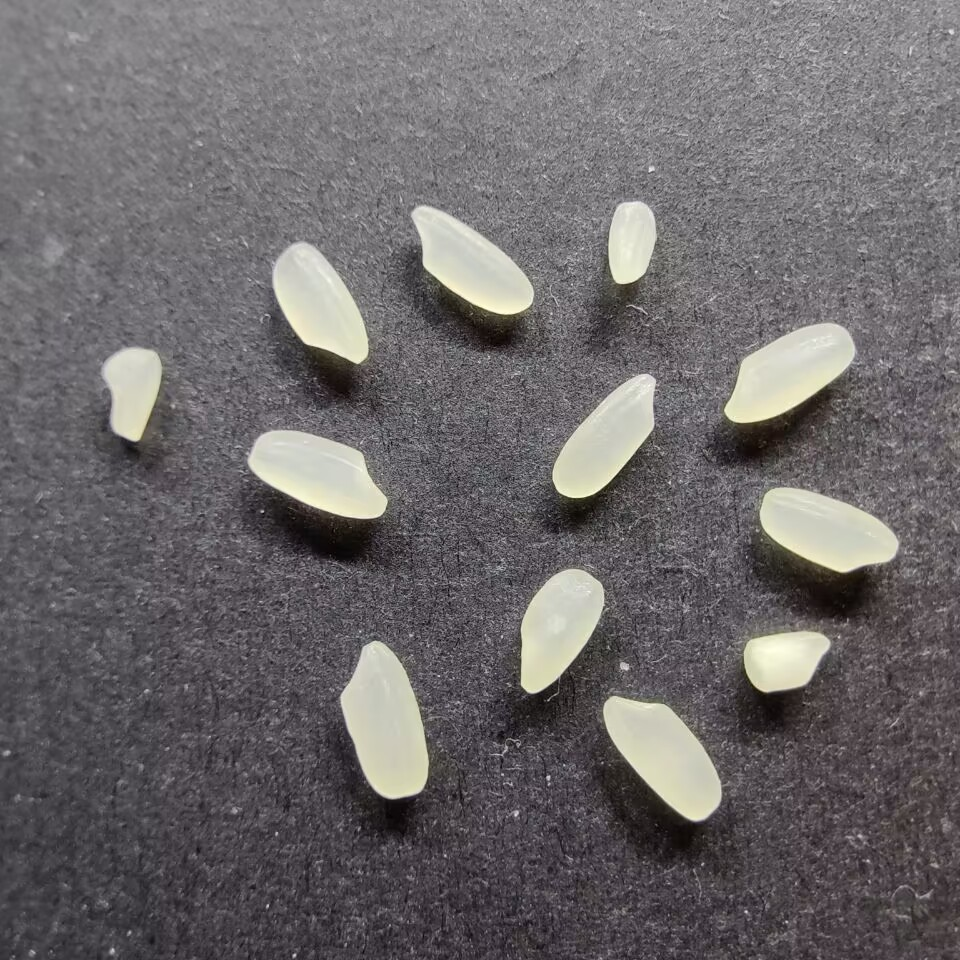broken: (99, 345, 163, 443), (741, 630, 832, 694), (604, 200, 658, 286)
rice: (600, 693, 722, 824), (337, 638, 431, 798), (409, 202, 537, 317), (549, 368, 659, 500), (722, 319, 856, 425), (245, 428, 389, 522), (270, 240, 371, 365), (757, 486, 900, 574), (517, 567, 606, 696)
